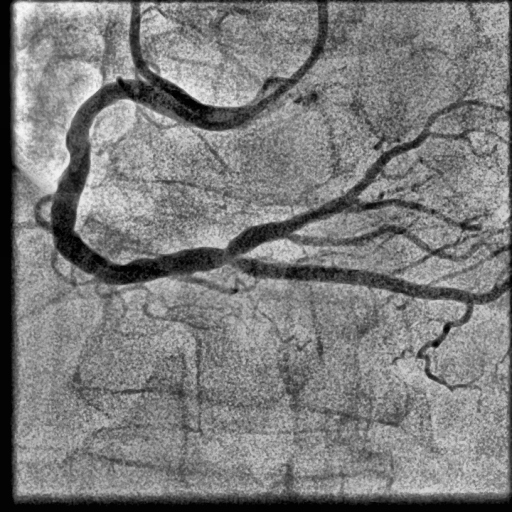pborca: (228, 100, 482, 253)
pda: (232, 255, 512, 304)
rca: (50, 72, 294, 285)
